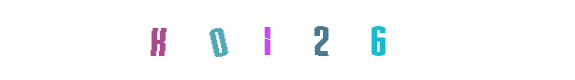2: (248, 0, 328, 80)
6: (338, 0, 418, 80)
I: (232, 0, 312, 80)
K: (152, 0, 232, 80)
O: (226, 0, 306, 80)
